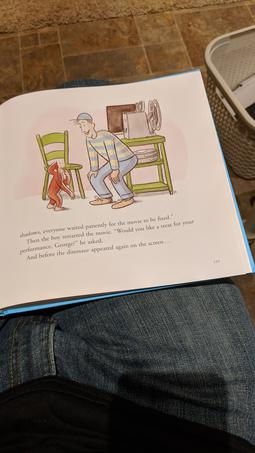text block: (17, 209, 209, 262)
